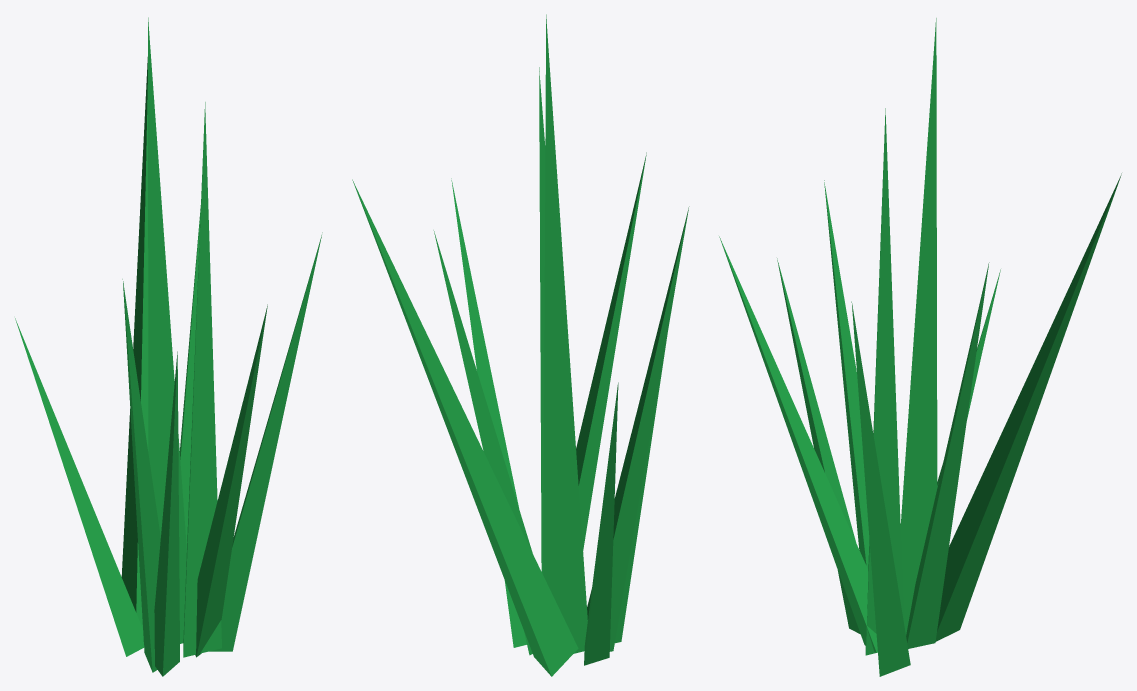
File: GrassPatch.fbx
3 renders of one model, left to right at view 1: azimuth 30°, elevation 25°; view 2: azimuth 150°, elevation 25°; view 3: azimuth 270°, elevation 25°, orthographic. The views are drawn at different scales.
Parts seen in each view (by area): view 1: Cone.008; view 2: Cone.008; view 3: Cone.008.
Boxes of the visible parts, bbox=[...] form: Cone.008: bbox=[15, 17, 322, 676]; Cone.008: bbox=[352, 14, 689, 676]; Cone.008: bbox=[719, 18, 1121, 676].
Size of the model in its own units: 42.63 by 110 by 63.28.
